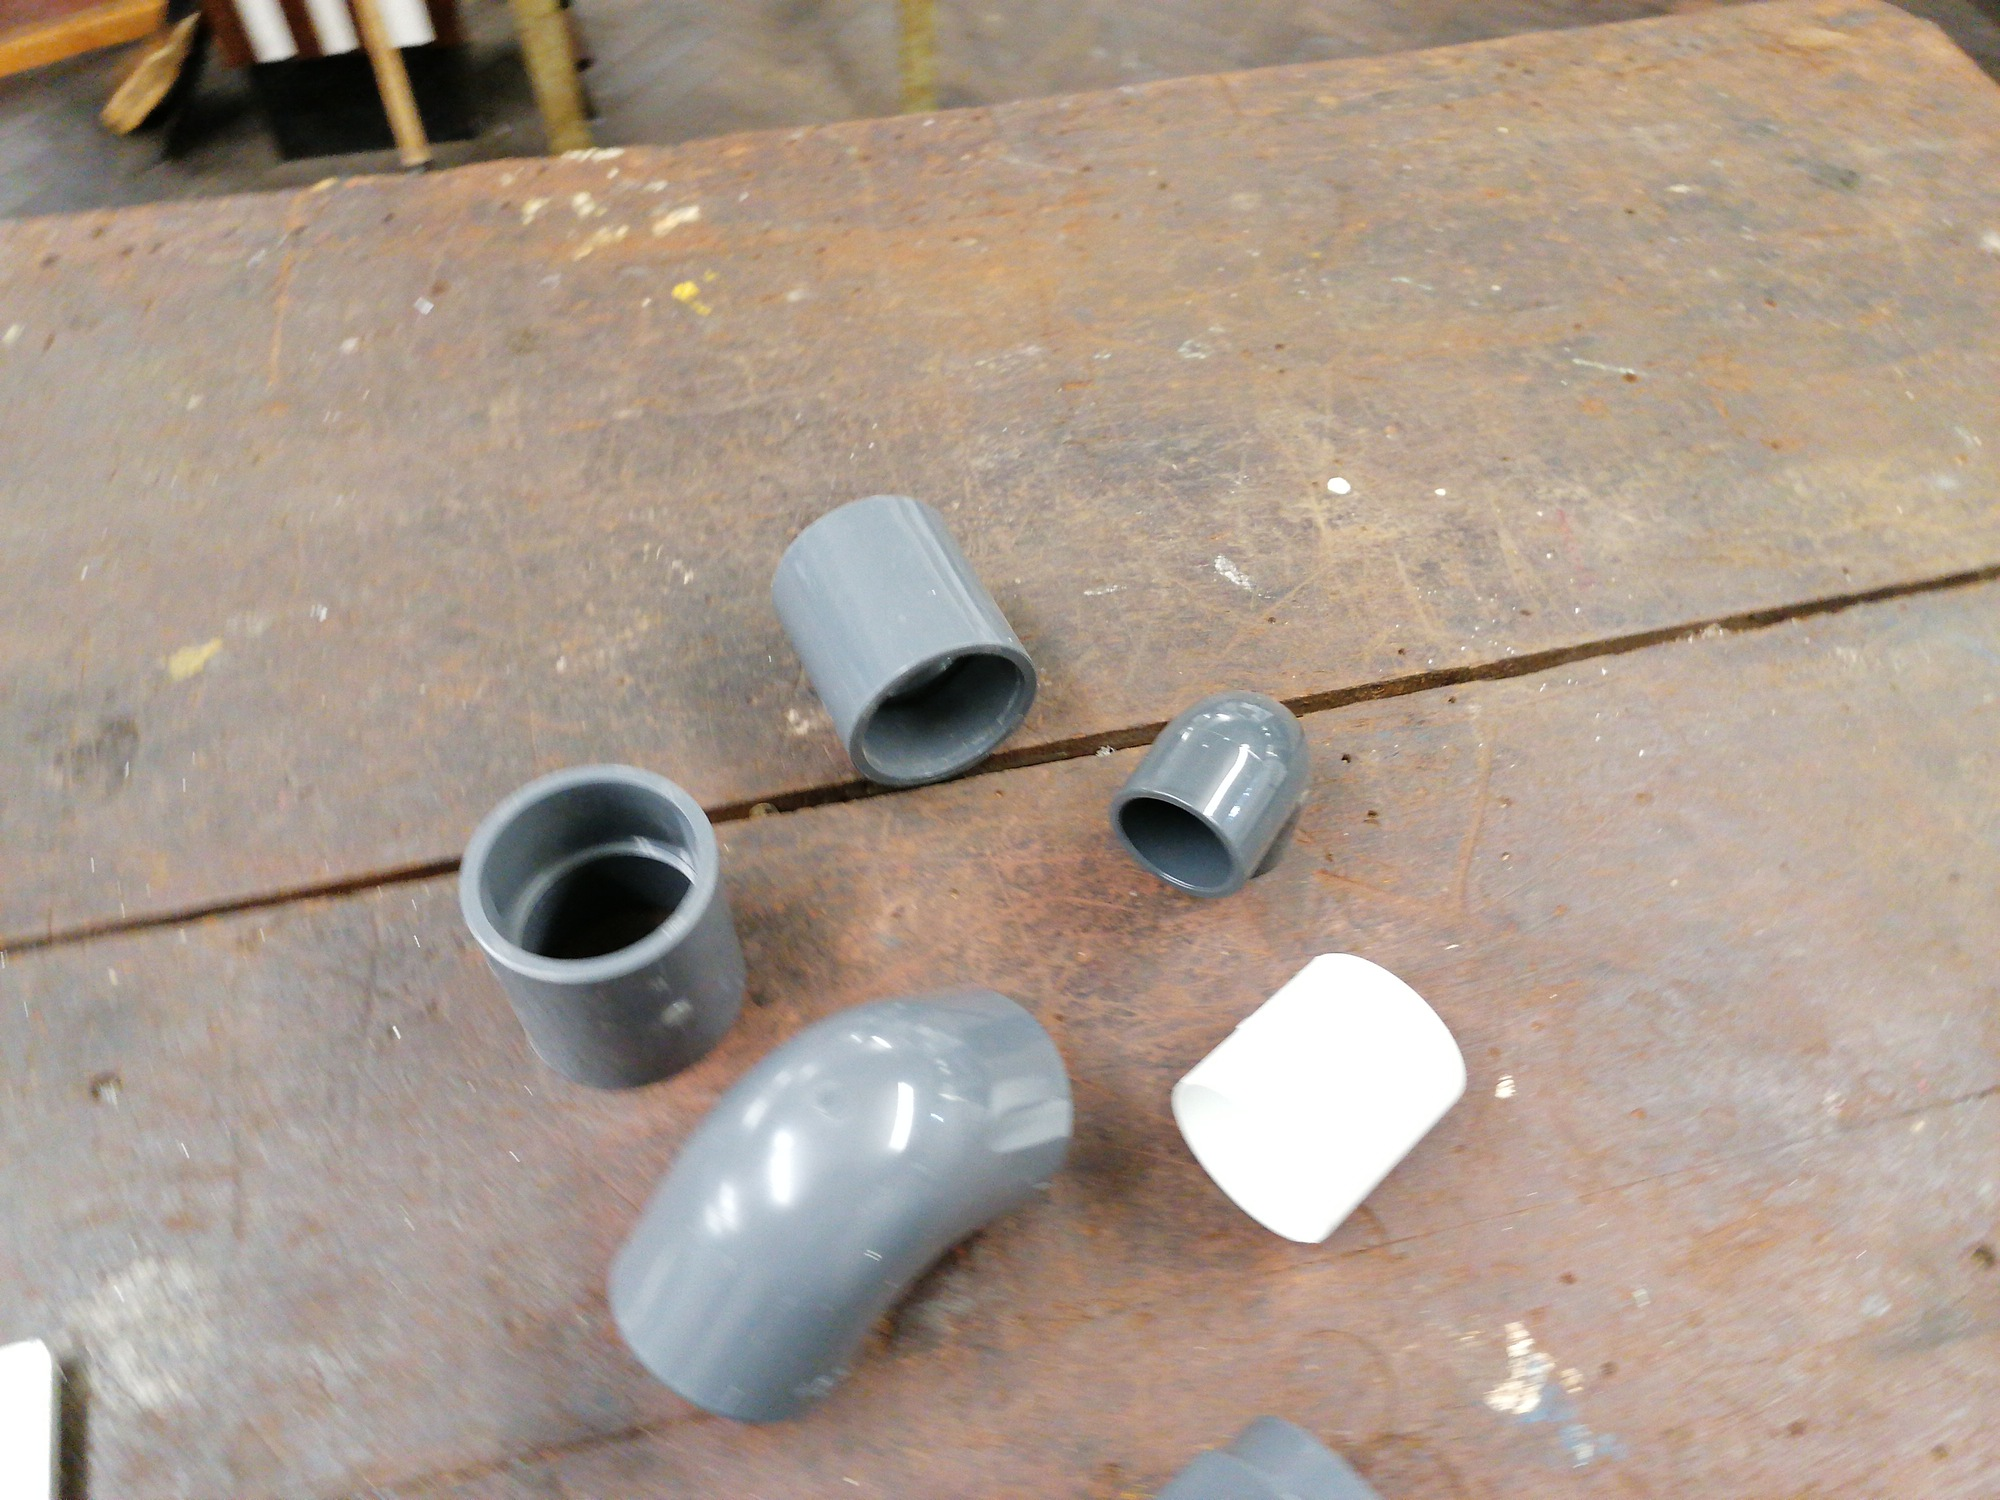nut: (1143, 1410, 1395, 1495)
pipe: (597, 986, 1076, 1429), (450, 756, 746, 1090), (1167, 950, 1472, 1249), (770, 485, 1044, 791), (1107, 693, 1307, 900)
